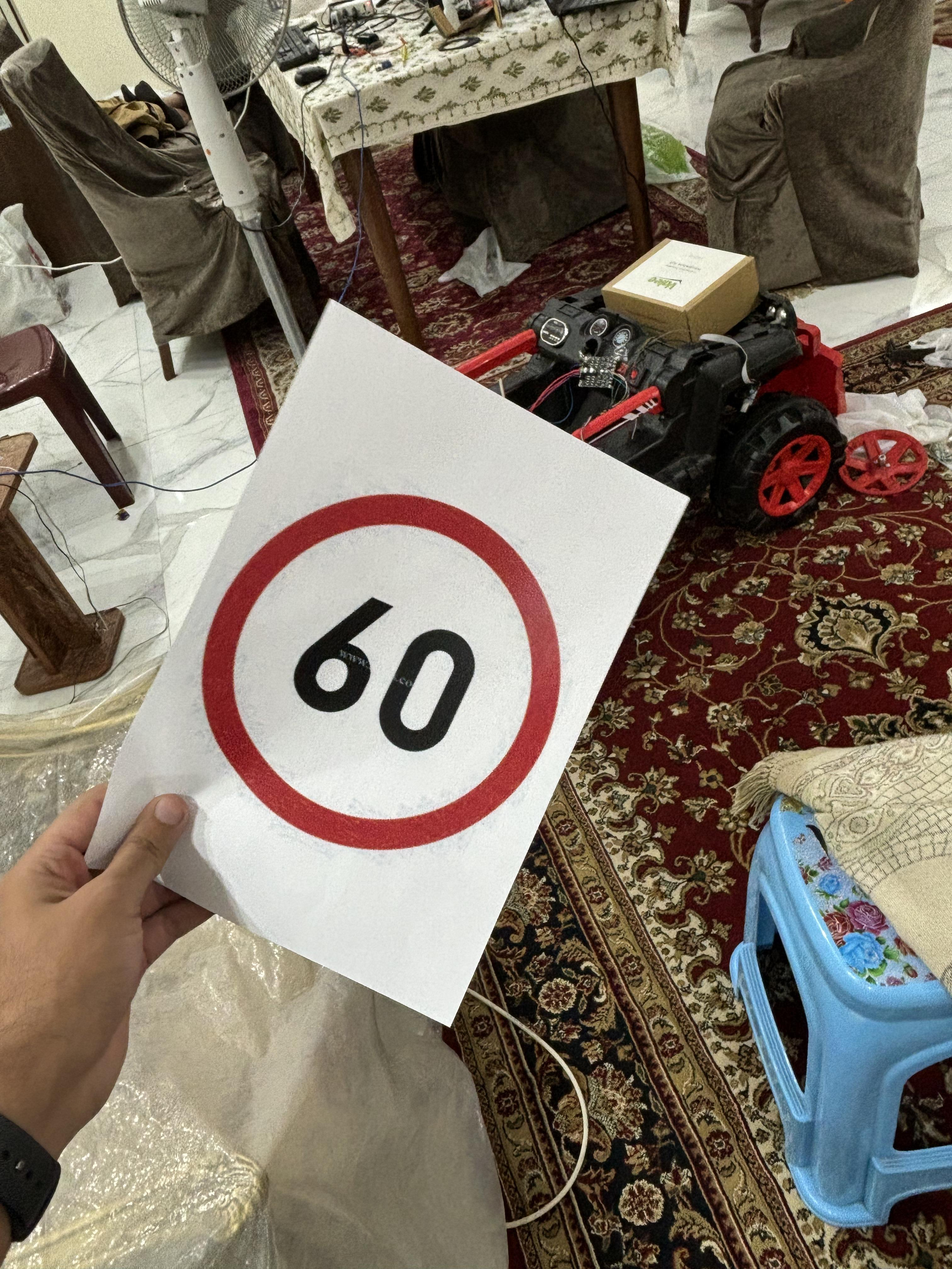60-Speed: (199, 495, 573, 845)
